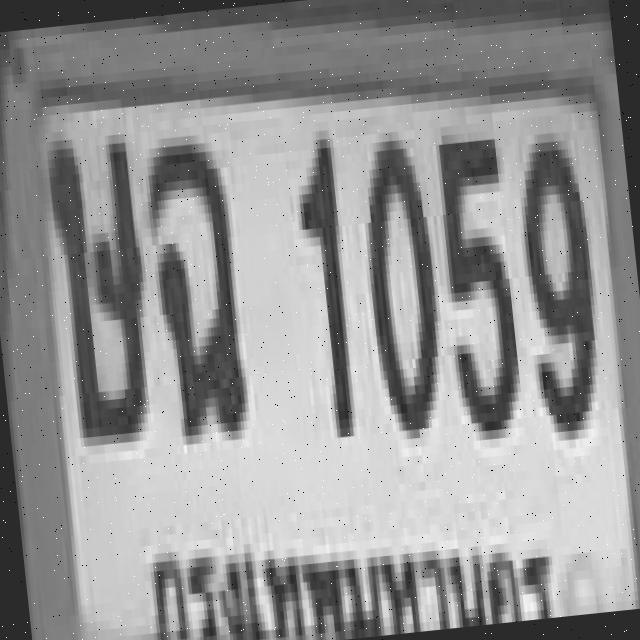0: (352, 130, 445, 432)
1: (289, 130, 356, 430)
18ChorChing: (138, 132, 248, 438)
48SorRueSi: (40, 124, 157, 438)
5: (427, 121, 524, 433)
9: (511, 130, 604, 434)
Bangkok: (141, 495, 559, 640)
